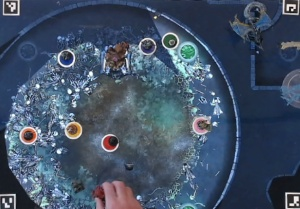blue: (56, 48, 75, 69)
green: (159, 30, 179, 51)
orange: (17, 124, 41, 149)
pink: (190, 114, 211, 137)
red: (98, 131, 119, 153)
violet: (136, 37, 155, 58)
yellow: (62, 121, 83, 140)
